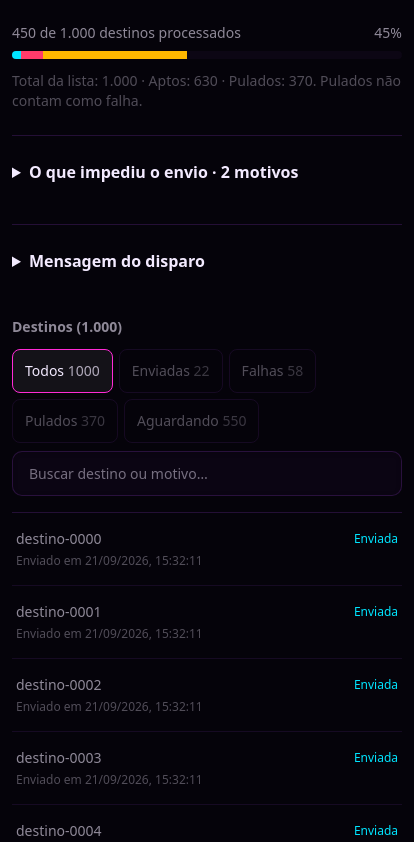
Scenario: acompanhamento do disparo › busca e filtros encontram destinos além da primeira página
(page scrolled)
Expected: the heading "Destinos (1.000)" is shown, [12,316,122,336]
Click the button "Aguardando 550" at (192, 420), box [124,398,259,442]
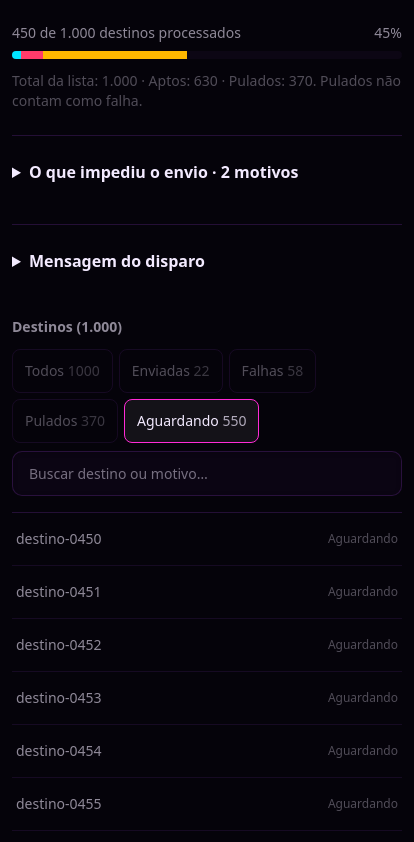
Type "destino-0999" into the field labelled "Buscar destino ou motivo" at (207, 473), box [12,450,402,496]
(page scrolled)
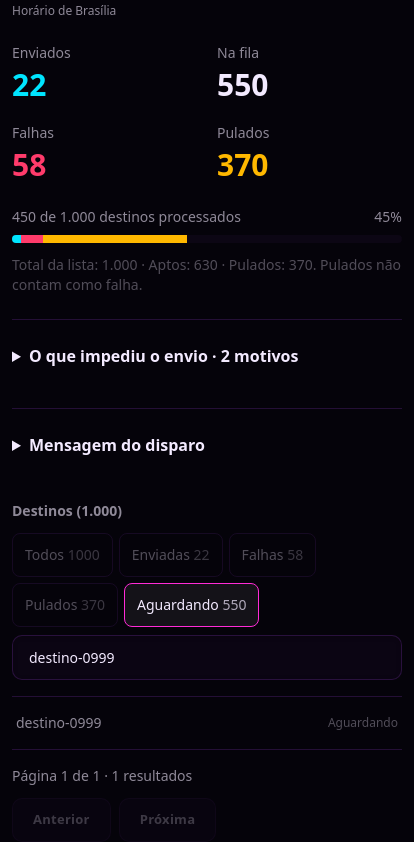
Expected: the text "destino-0999" is shown, [16,712,102,732]
Expected: the text "Página 1 de 1 · 1 resultados" is shown, [12,766,192,786]
